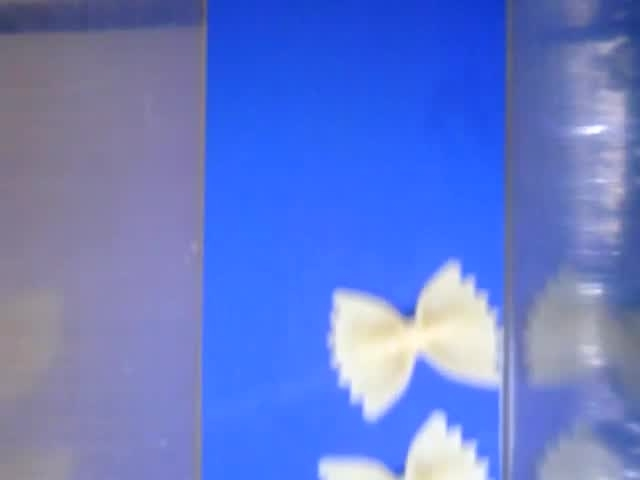farfalle: (329, 261, 504, 423), (311, 410, 492, 480)
